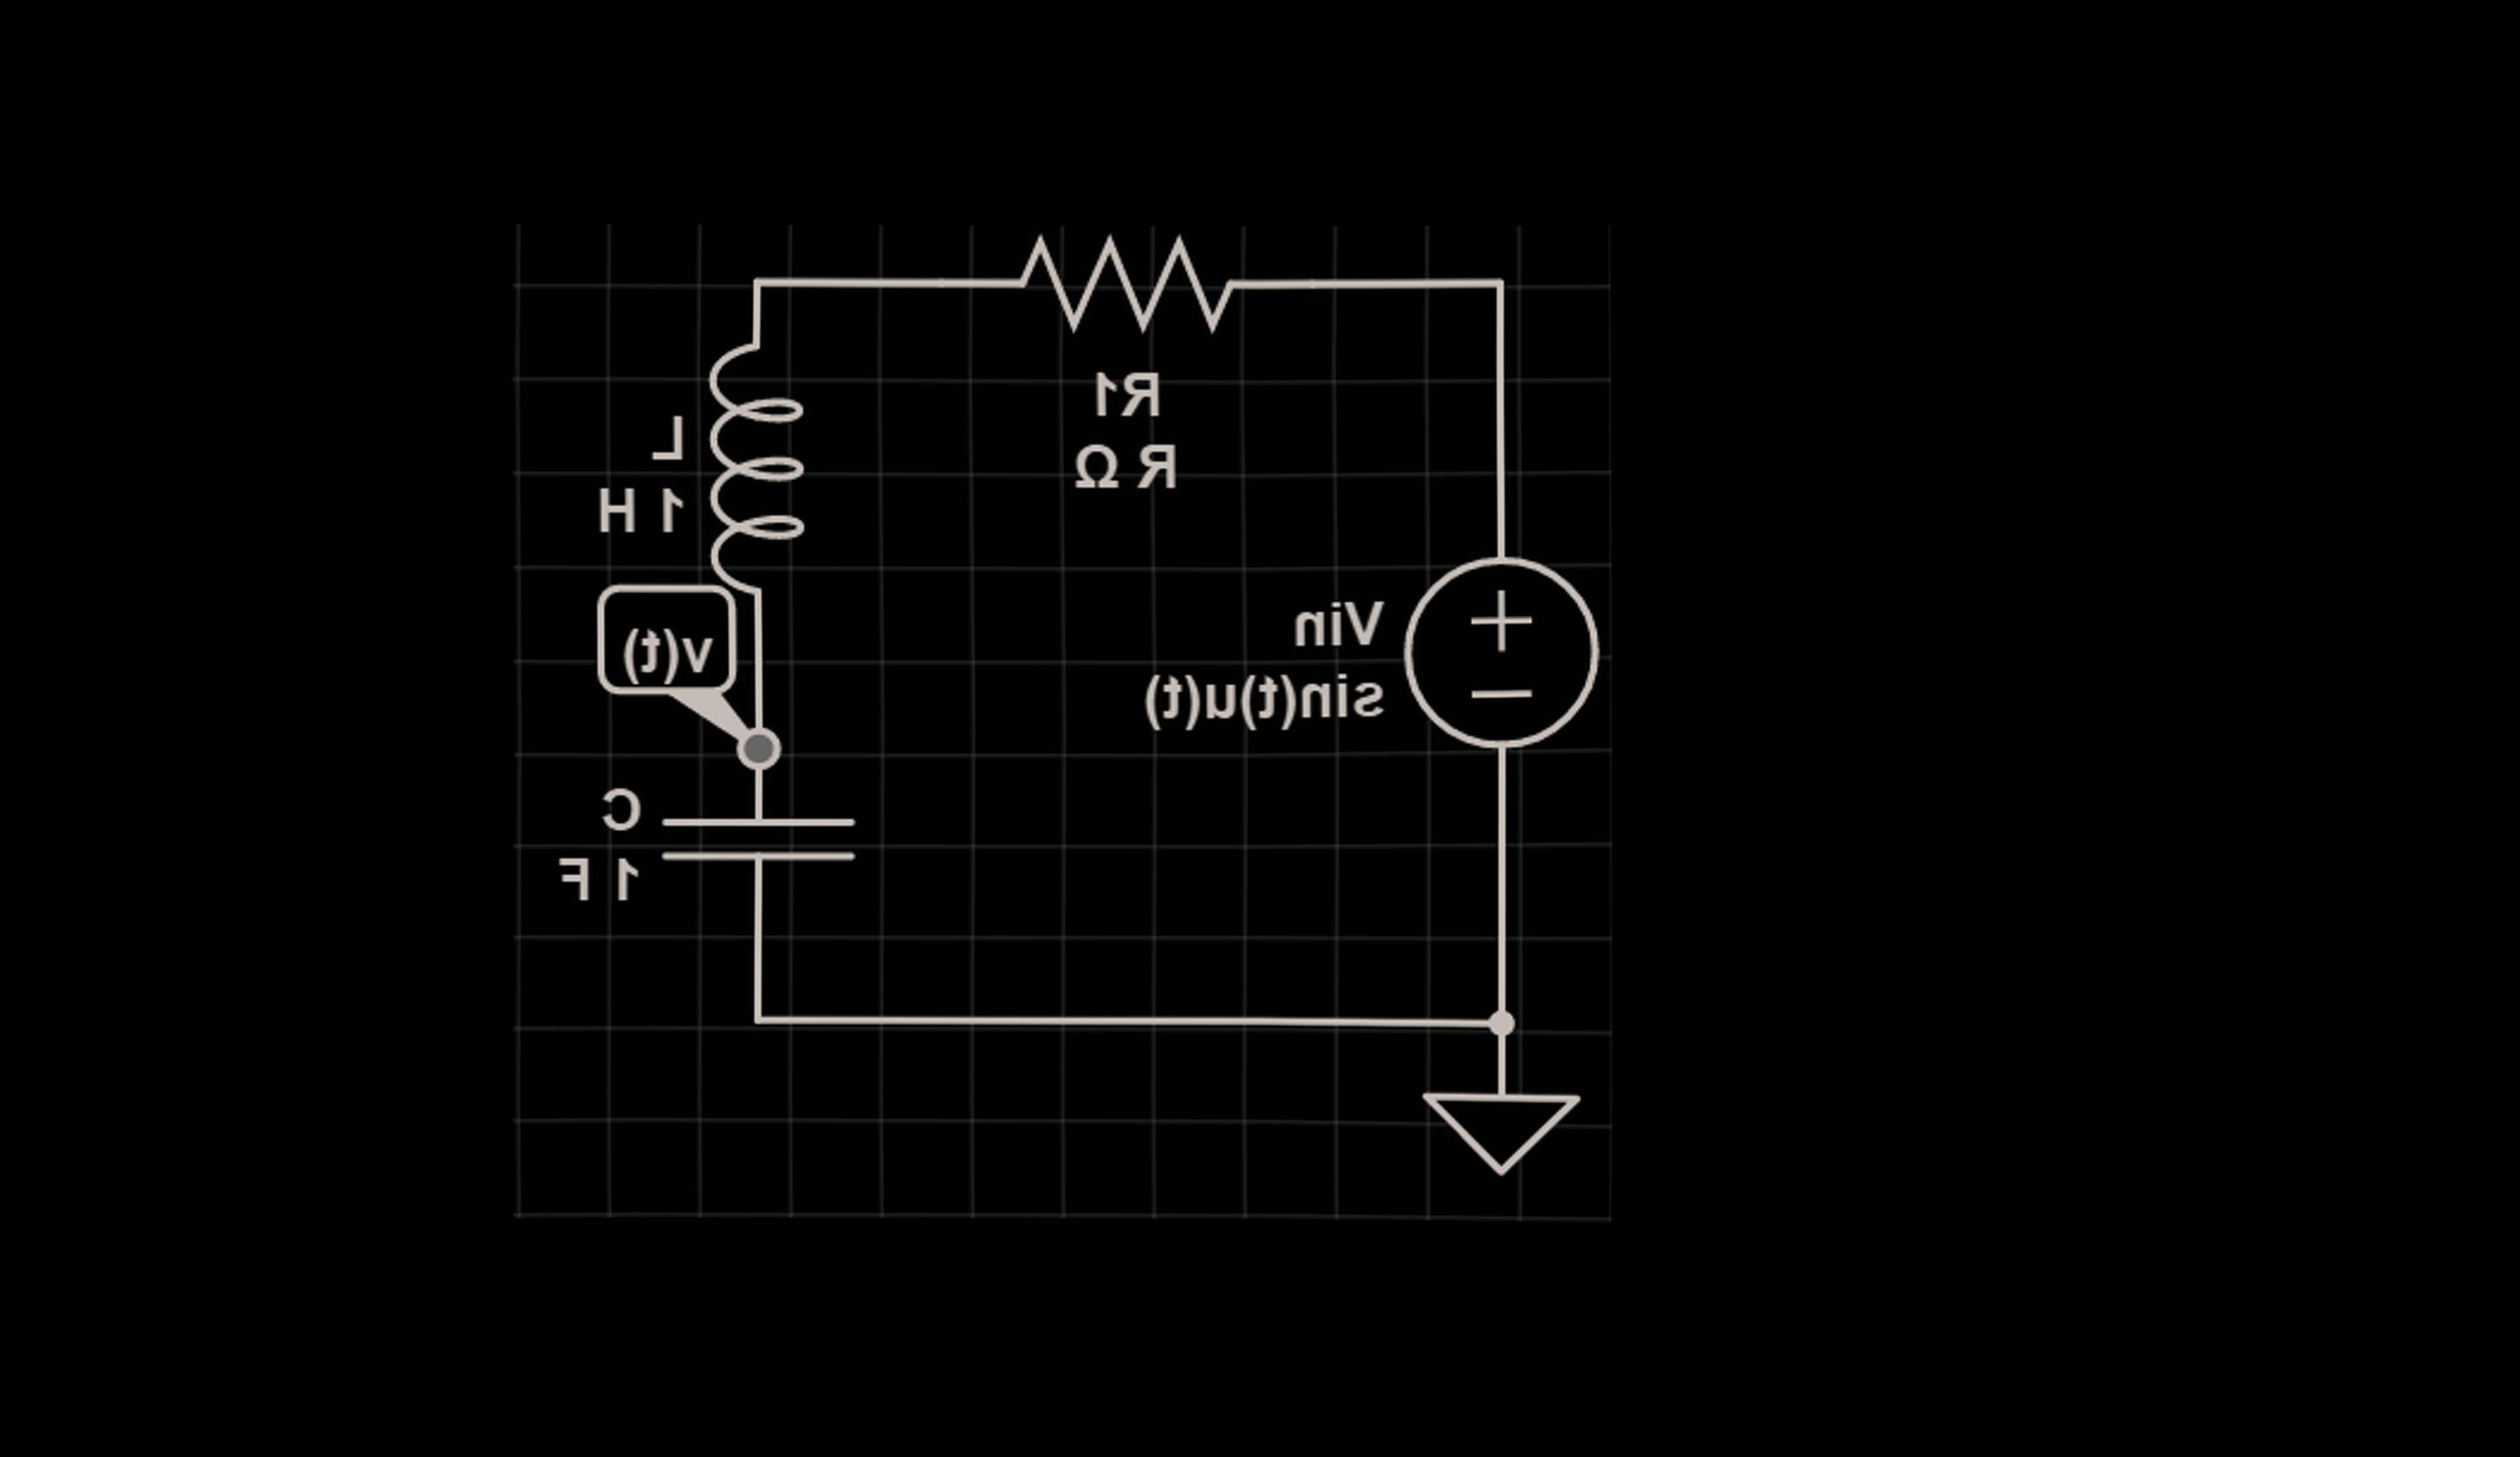Battery: (1381, 512, 1655, 817)
